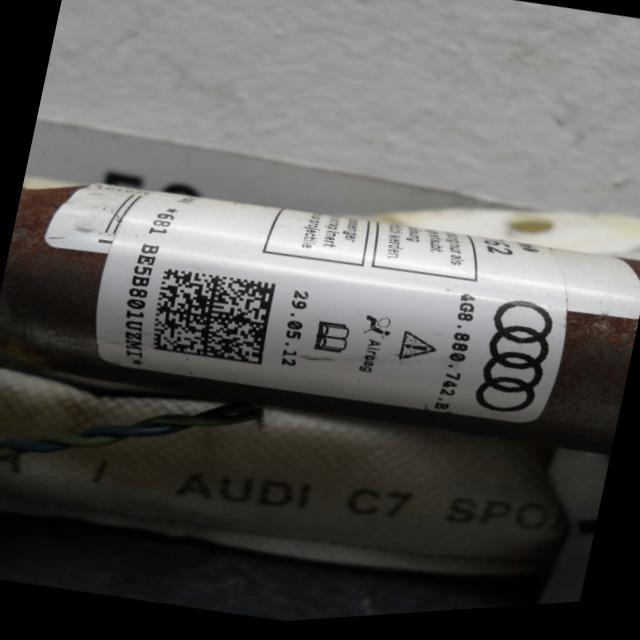datamatrix: (147, 263, 278, 375)
